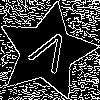V: (21, 27, 75, 83)
